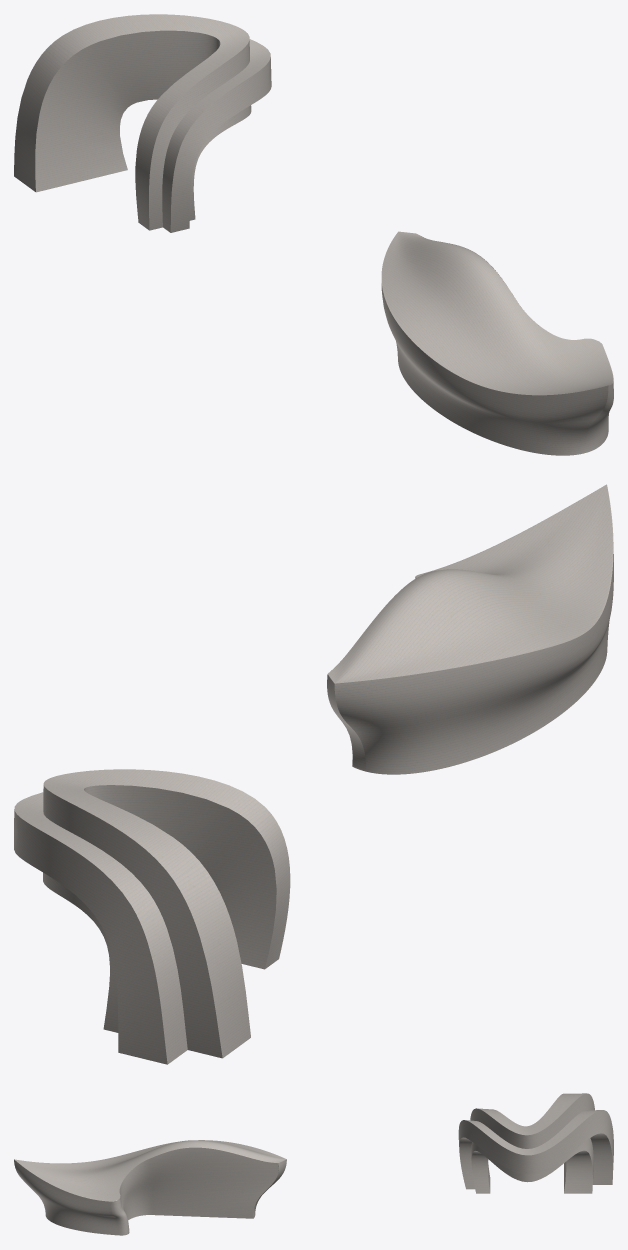
File: abstract1.glb
3 renders of one model, top to bottom at view 1: azimuth 30°, elevation 25°; view 2: azimuth 150°, elevation 25°; view 3: azimuth 270°, elevation 25°, orthographic. The views are drawn at different scales.
Visible parts, largest first — view 1: Object_1, Object_1.001; view 2: Object_1, Object_1.001; view 3: Object_1.001, Object_1.
Part boxes in pixels (x1,y1,x2,y2): Object_1: [14, 14, 271, 232]; Object_1.001: [381, 231, 613, 455]; Object_1: [14, 769, 290, 1064]; Object_1.001: [327, 484, 613, 774]; Object_1.001: [14, 1140, 286, 1235]; Object_1: [458, 1093, 613, 1193].
Bounding box in the file's own units: 0.2795 × 0.1846 × 1.02.
2 materials, 2 textured.
